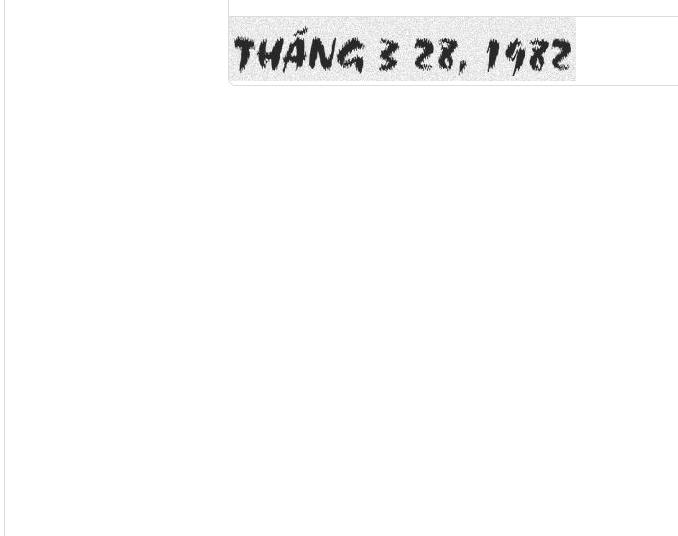text: (233, 23, 575, 84)
